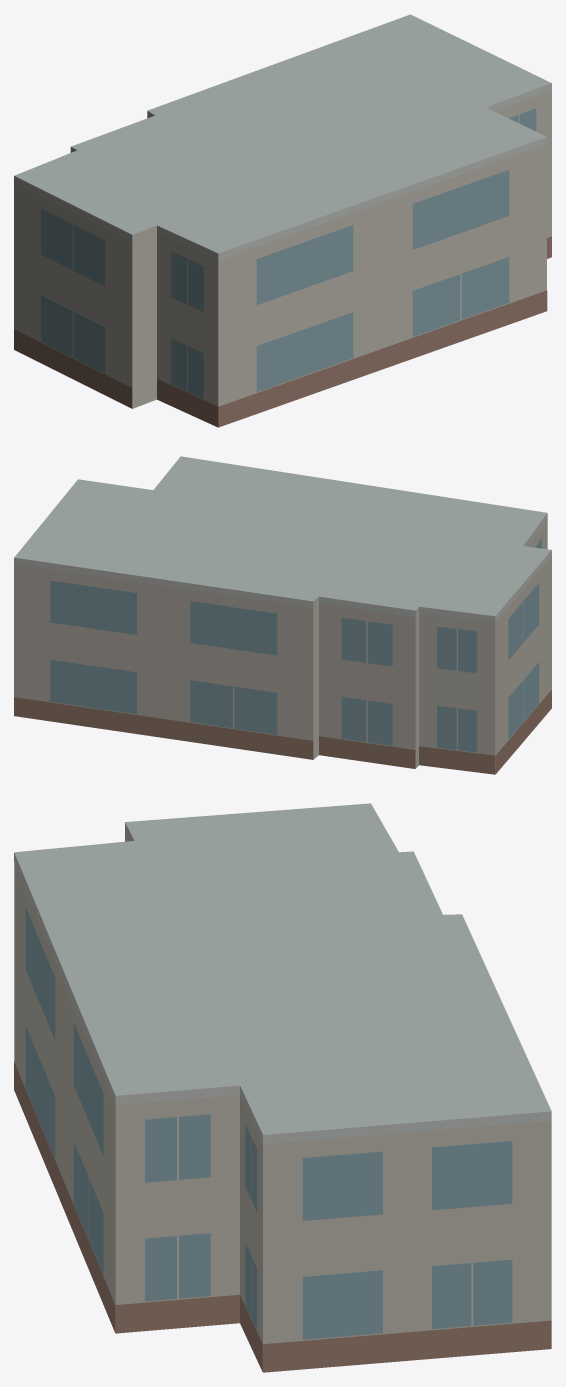
File: survey-upis-32659988.glb
3 views of the same model, one above another, from view 1: azimuth 30°, elevation 25°; view 2: azimuth 150°, elevation 25°; view 3: azimuth 270°, elevation 25° (orthographic). The views are drawn at different scales.
Visible parts, largest first — view 1: survey-upis-32659988.tmp; view 2: survey-upis-32659988.tmp; view 3: survey-upis-32659988.tmp.
Boxes of the visible parts, <box> form: survey-upis-32659988.tmp: <box>14,14,551,427</box>; survey-upis-32659988.tmp: <box>14,456,551,774</box>; survey-upis-32659988.tmp: <box>14,803,551,1372</box>.
Size of the model in its own units: 18.28 by 6.1 by 12.52.
